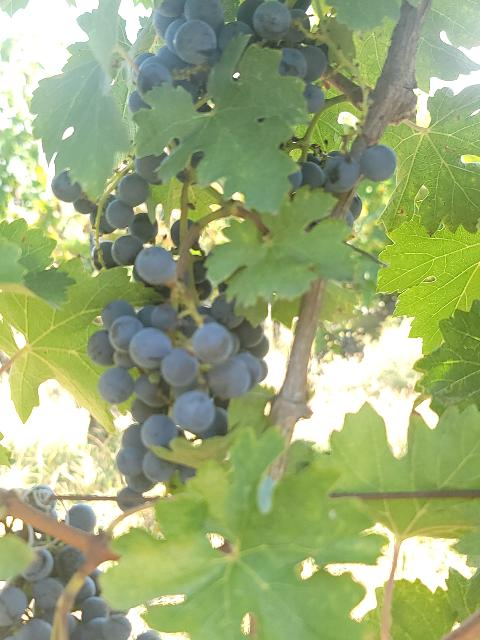grapes: (88, 300, 266, 491), (128, 0, 328, 112), (0, 545, 85, 640), (289, 145, 396, 194), (69, 570, 131, 640), (346, 195, 362, 226)
